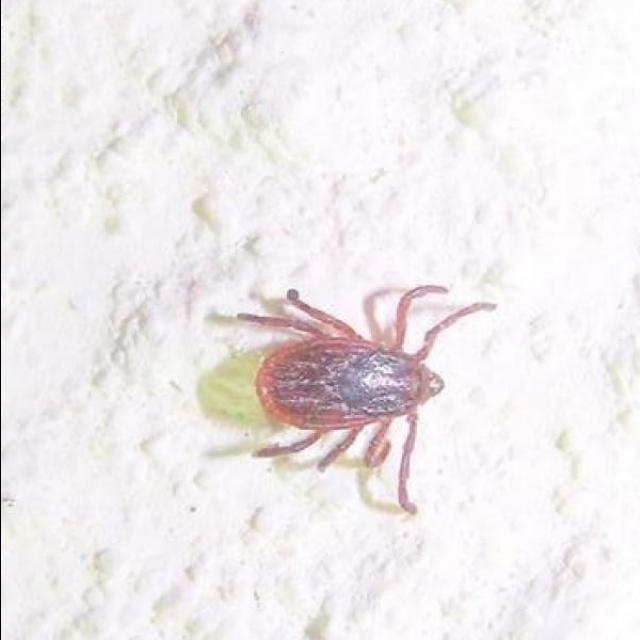Rhipicephalus Sanguineus-F: (207, 285, 494, 516)
